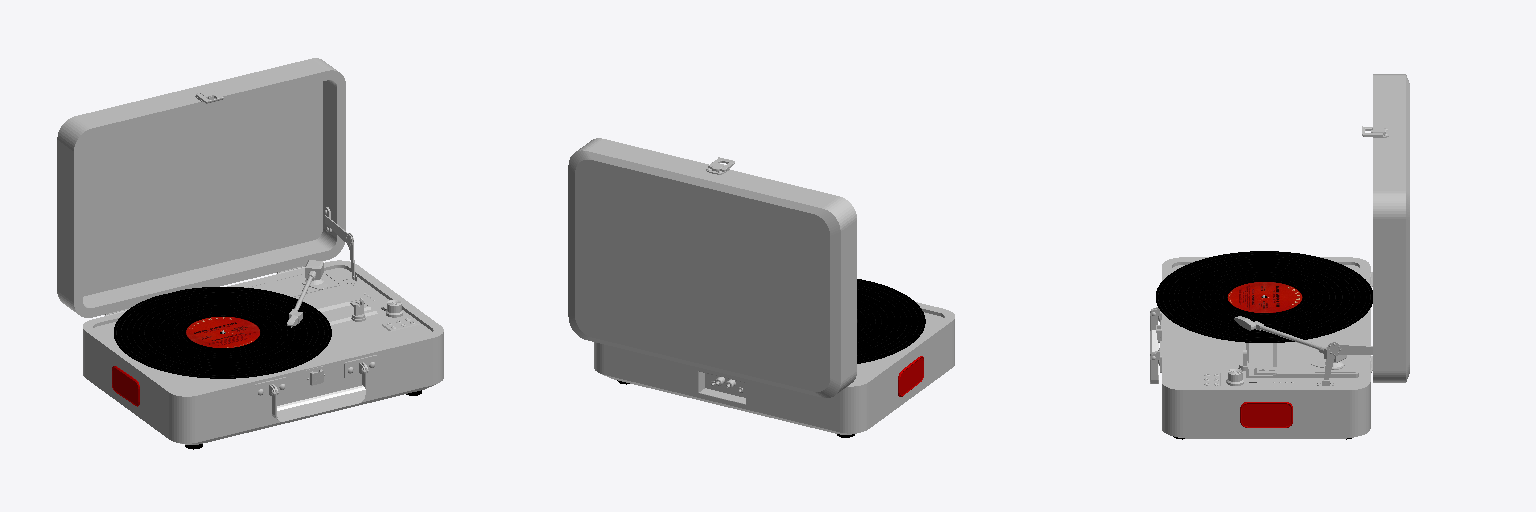
The picture shows the model from 3 angles: view 1: azimuth 30°, elevation 25°; view 2: azimuth 150°, elevation 25°; view 3: azimuth 270°, elevation 25°; orthographic projection.
Visible parts, largest first — view 1: polySurface4, pDisc1, Hendelhouder_4, Opbouw3, pCube12, Boxen1, polySurface1; view 2: polySurface4, pDisc1, Boxen1; view 3: polySurface4, pDisc1, Opbouw3, Hendelhouder_4, Boxen, polySurface1.
Part boxes in pixels (bbox=[...]): polySurface4: bbox=[57, 58, 443, 444]; pDisc1: bbox=[114, 287, 331, 378]; Hendelhouder_4: bbox=[105, 91, 377, 419]; Opbouw3: bbox=[244, 271, 377, 324]; pCube12: bbox=[277, 385, 365, 421]; Boxen1: bbox=[112, 366, 139, 406]; polySurface1: bbox=[287, 260, 323, 327]; polySurface4: bbox=[568, 138, 954, 434]; pDisc1: bbox=[857, 279, 925, 363]; Boxen1: bbox=[898, 356, 923, 396]; polySurface4: bbox=[1162, 74, 1409, 438]; pDisc1: bbox=[1156, 251, 1372, 342]; Opbouw3: bbox=[1238, 321, 1358, 377]; Hendelhouder_4: bbox=[1150, 126, 1388, 385]; Boxen: bbox=[1240, 402, 1292, 427]; polySurface1: bbox=[1234, 316, 1346, 362].
Size of the model in its own units: 6.15 by 5.39 by 5.01.
16 materials, 1 textured.